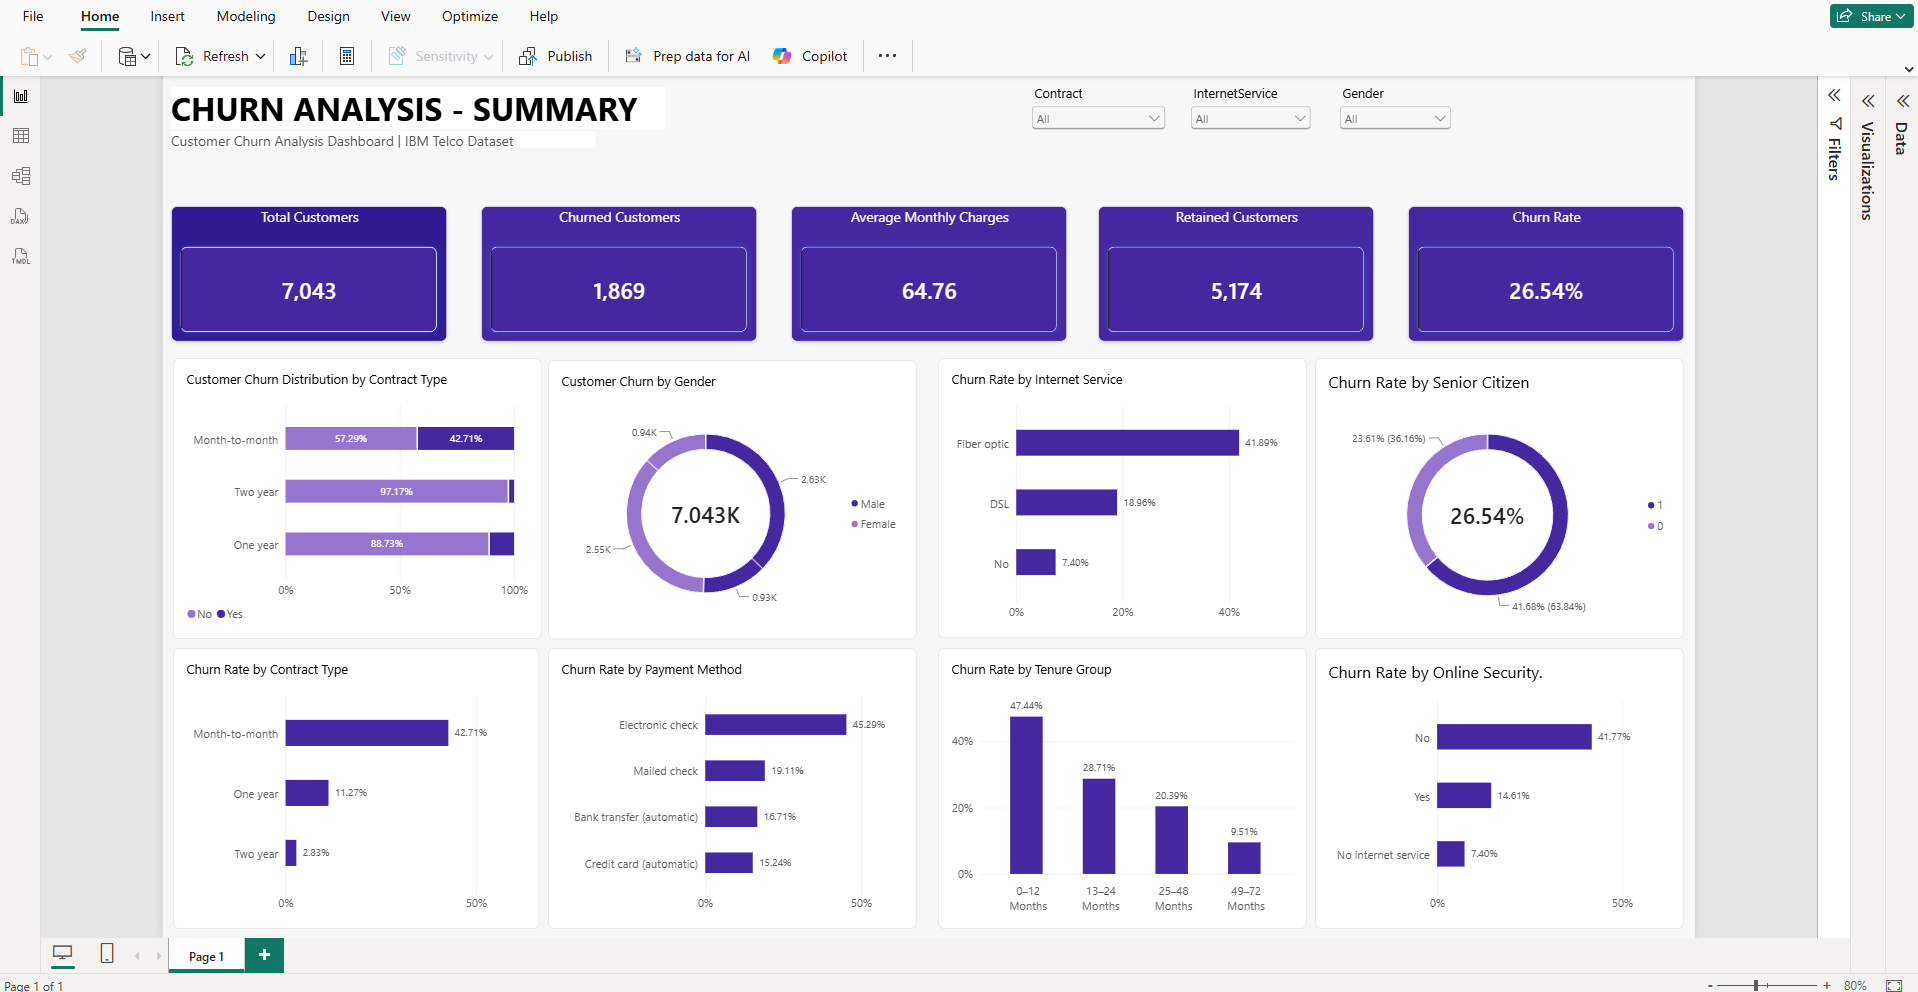

The dashboard page shown, as its layout file describes it:
{"tool":"powerbi","page":{"name":"Page 1","canvas":[1920,1080],"ordinal":0},"visuals":[{"type":"cardVisual","title":"Total Customers","fields":{"Data":["telco_customer_churn_cleaned.Total Customers Display"]},"box":[10,162.9,345.8,170.4],"z":0},{"type":"cardVisual","title":"Churned Customers","fields":{"Data":["telco_customer_churn_cleaned.Churned Customers Display"]},"box":[398.4,162.9,345.8,170.4],"z":1000},{"type":"cardVisual","title":"Retained Customers","fields":{"Data":["telco_customer_churn_cleaned.Retained Customers Display"]},"box":[1171.5,162.9,345.8,170.4],"z":2000},{"type":"cardVisual","title":"Churn Rate","fields":{"Data":["telco_customer_churn_cleaned.Churn Rate"]},"box":[1559.9,162.9,345.8,170.4],"z":3000},{"type":"cardVisual","title":"Average Monthly Charges","fields":{"Data":["telco_customer_churn_cleaned.Average Monthly Charges"]},"box":[786.8,162.9,345.8,170.4],"z":4000},{"type":"hundredPercentStackedBarChart","title":"Customer Churn Distribution by Contract Type","fields":{"Category":["telco_customer_churn_cleaned.Contract"],"Series":["telco_customer_churn_cleaned.Churn"],"Y":["CountNonNull(telco_customer_churn_cleaned.customerID)"]},"box":[12.5,353.3,462.3,352.1],"z":5000},{"type":"donutChart","title":"Customer Churn by Gender","fields":{"Category":["telco_customer_churn_cleaned.gender"],"Series":["telco_customer_churn_cleaned.Churn"],"Y":["CountNonNull(telco_customer_churn_cleaned.customerID)"]},"box":[482.4,355.8,462.3,349.6],"z":6000},{"type":"clusteredBarChart","title":"Churn Rate by Contract Type","fields":{"Category":["telco_customer_churn_cleaned.Contract"],"Y":["telco_customer_churn_cleaned.Churn Rate"]},"box":[12.5,716.7,458.6,352.1],"z":7000},{"type":"clusteredBarChart","title":"Churn Rate by Payment Method","fields":{"Category":["telco_customer_churn_cleaned.PaymentMethod"],"Y":["telco_customer_churn_cleaned.Churn Rate"]},"box":[482.4,716.7,462.3,352.1],"z":8000},{"type":"clusteredBarChart","title":"Churn Rate by Internet Service","fields":{"Category":["telco_customer_churn_cleaned.InternetService"],"Y":["telco_customer_churn_cleaned.Churn Rate"]},"box":[971,353.3,462.3,350.8],"z":9000},{"type":"clusteredColumnChart","title":"Churn Rate by Tenure Group","fields":{"Category":["telco_customer_churn_cleaned.Tenure Group"],"Y":["telco_customer_churn_cleaned.Churn Rate"]},"box":[971,716.7,462.3,352.1],"z":10000},{"type":"donutChart","title":"Churn Rate by Senior Citizen","fields":{"Category":["telco_customer_churn_cleaned.SeniorCitizen"],"Y":["telco_customer_churn_cleaned.Churn Rate"]},"box":[1443.3,353.3,462.3,352.1],"z":11000},{"type":"clusteredBarChart","title":"Churn Rate by Online Security.","fields":{"Category":["telco_customer_churn_cleaned.OnlineSecurity"],"Y":["telco_customer_churn_cleaned.Churn Rate"]},"box":[1443.3,716.7,462.3,352.1],"z":12000},{"type":"slicer","fields":{"Values":["telco_customer_churn_cleaned.Contract"]},"box":[1083.3,10,176.7,167.8],"z":13000},{"type":"slicer","fields":{"Values":["telco_customer_churn_cleaned.InternetService"]},"box":[1283.3,10,160,167.8],"z":14000},{"type":"slicer","fields":{"Values":["telco_customer_churn_cleaned.gender"]},"box":[1470,10,148.9,167.8],"z":15000},{"type":"textbox","title":"CHURN ANALYSIS - SUMMARY","box":[10,13.3,618.9,53.3],"z":16000},{"type":"textbox","title":"Customer Churn Analysis Dashboard | IBM Telco Dataset","box":[10,68.9,532.2,21.1],"z":17000}]}

Visuals, with their boxes on the page's 1920x1080 design canvas (x1, y1, x2, y2). These are canvas units, not pixel positions in the 1918x992 screenshot, which may show the page scaled, cropped or inside an application window:
"Total Customers" cardVisual: box(10, 163, 356, 333)
"Churned Customers" cardVisual: box(398, 163, 744, 333)
"Retained Customers" cardVisual: box(1172, 163, 1517, 333)
"Churn Rate" cardVisual: box(1560, 163, 1906, 333)
"Average Monthly Charges" cardVisual: box(787, 163, 1133, 333)
"Customer Churn Distribution by Contract Type" hundredPercentStackedBarChart: box(12, 353, 475, 705)
"Customer Churn by Gender" donutChart: box(482, 356, 945, 705)
"Churn Rate by Contract Type" clusteredBarChart: box(12, 717, 471, 1069)
"Churn Rate by Payment Method" clusteredBarChart: box(482, 717, 945, 1069)
"Churn Rate by Internet Service" clusteredBarChart: box(971, 353, 1433, 704)
"Churn Rate by Tenure Group" clusteredColumnChart: box(971, 717, 1433, 1069)
"Churn Rate by Senior Citizen" donutChart: box(1443, 353, 1906, 705)
"Churn Rate by Online Security." clusteredBarChart: box(1443, 717, 1906, 1069)
slicer - telco_customer_churn_cleaned.Contract: box(1083, 10, 1260, 178)
slicer - telco_customer_churn_cleaned.InternetService: box(1283, 10, 1443, 178)
slicer - telco_customer_churn_cleaned.gender: box(1470, 10, 1619, 178)
"CHURN ANALYSIS - SUMMARY" textbox: box(10, 13, 629, 67)
"Customer Churn Analysis Dashboard | IBM Telco Dataset" textbox: box(10, 69, 542, 90)
